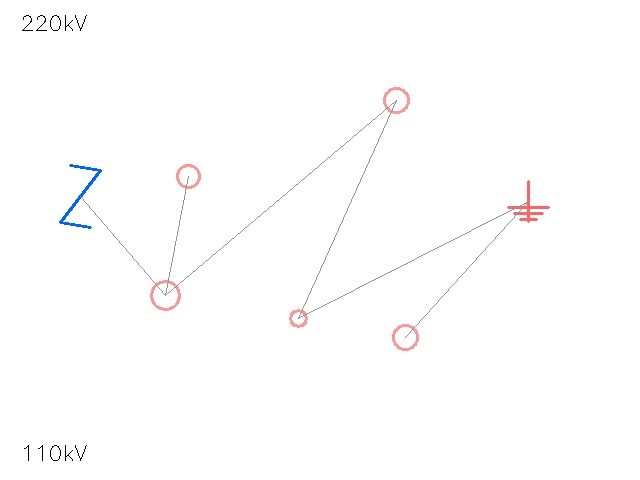circuit_breaker: (48, 164, 112, 228)
ground: (508, 181, 548, 221)
load_break_switch: (136, 266, 194, 324)
surge_arrester: (372, 76, 420, 124), (166, 154, 210, 198), (281, 301, 315, 335)
voltage_transformer: (380, 312, 430, 362)
